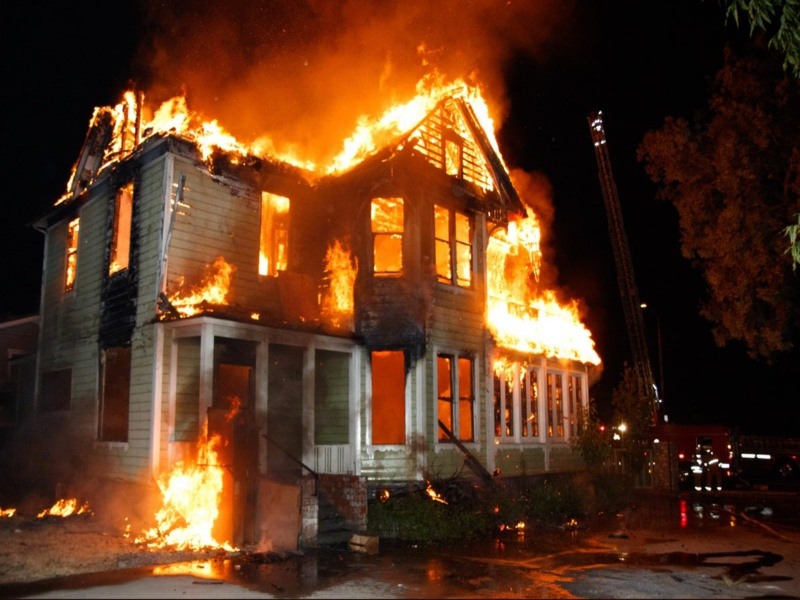fire: (144, 416, 244, 561), (104, 86, 259, 153), (480, 295, 603, 369), (390, 74, 514, 128), (482, 206, 556, 281), (322, 101, 388, 176), (165, 256, 239, 316), (314, 233, 363, 323), (256, 197, 299, 274), (47, 487, 86, 522), (1, 501, 21, 518)
